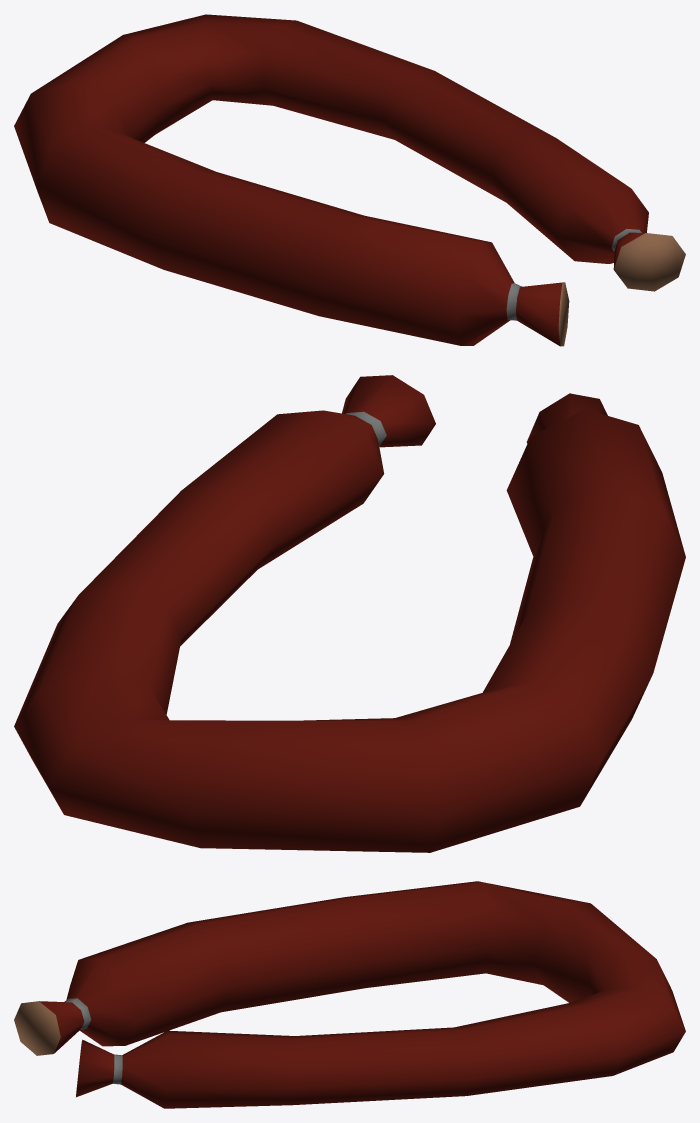
The model's file is Sausage_5.fbx.
The picture shows the model from 3 angles, top to bottom: view 1: azimuth 30°, elevation 25°; view 2: azimuth 150°, elevation 25°; view 3: azimuth 270°, elevation 25°; orthographic projection. The views are drawn at different scales.
Visible parts, largest first — view 1: Sausage_5; view 2: Sausage_5; view 3: Sausage_5.
Part boxes in pixels (bbox=[...]): Sausage_5: bbox=[14, 14, 685, 346]; Sausage_5: bbox=[14, 375, 685, 852]; Sausage_5: bbox=[14, 881, 685, 1108].
Bounding box in the file's own units: 37.56 × 8.78 × 57.88.
